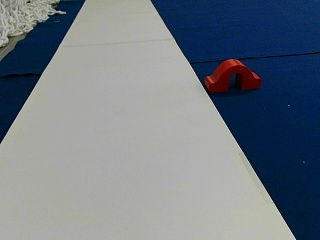bridge: (206, 59, 260, 90)
